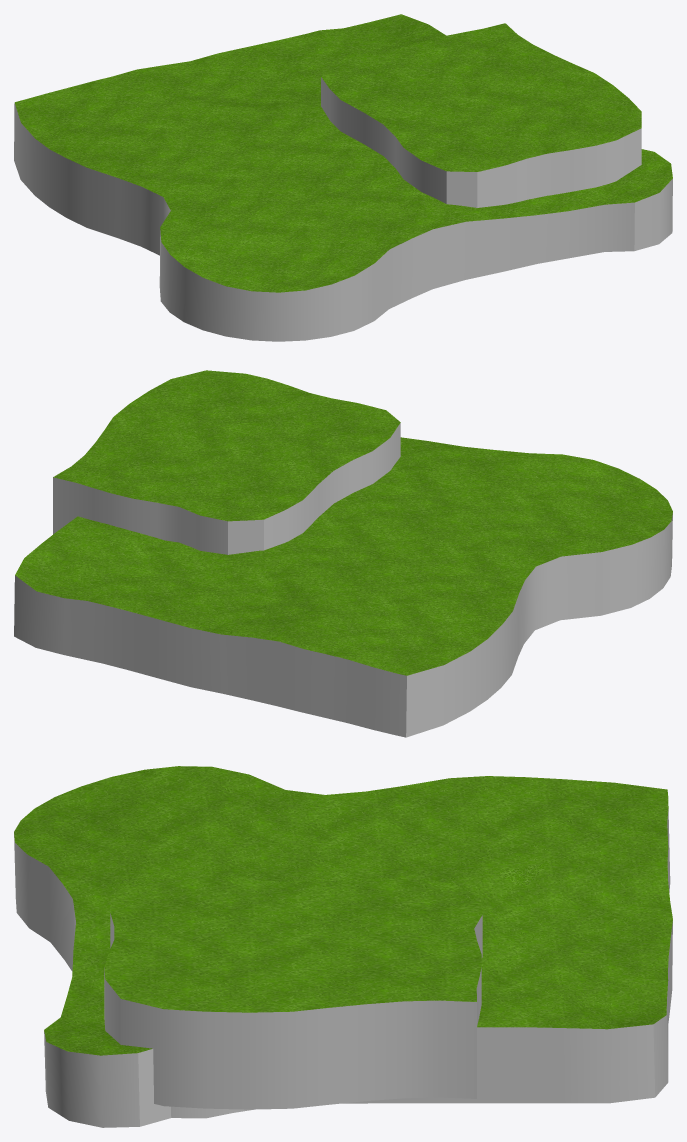
Rendered from SM_world_2_lowerground.fbx.
3 views of the same model, one above another, from view 1: azimuth 30°, elevation 25°; view 2: azimuth 150°, elevation 25°; view 3: azimuth 270°, elevation 25° (orthographic). The views are drawn at different scales.
Visible parts, largest first — view 1: Lower Ground; view 2: Lower Ground; view 3: Lower Ground.
Boxes of the visible parts, left/top/right/bottom form: Lower Ground: left=14, top=14, right=672, bottom=341; Lower Ground: left=14, top=370, right=672, bottom=737; Lower Ground: left=14, top=766, right=672, bottom=1127.
Bounding box in the file's own units: 9794 × 9437 × 1859.
